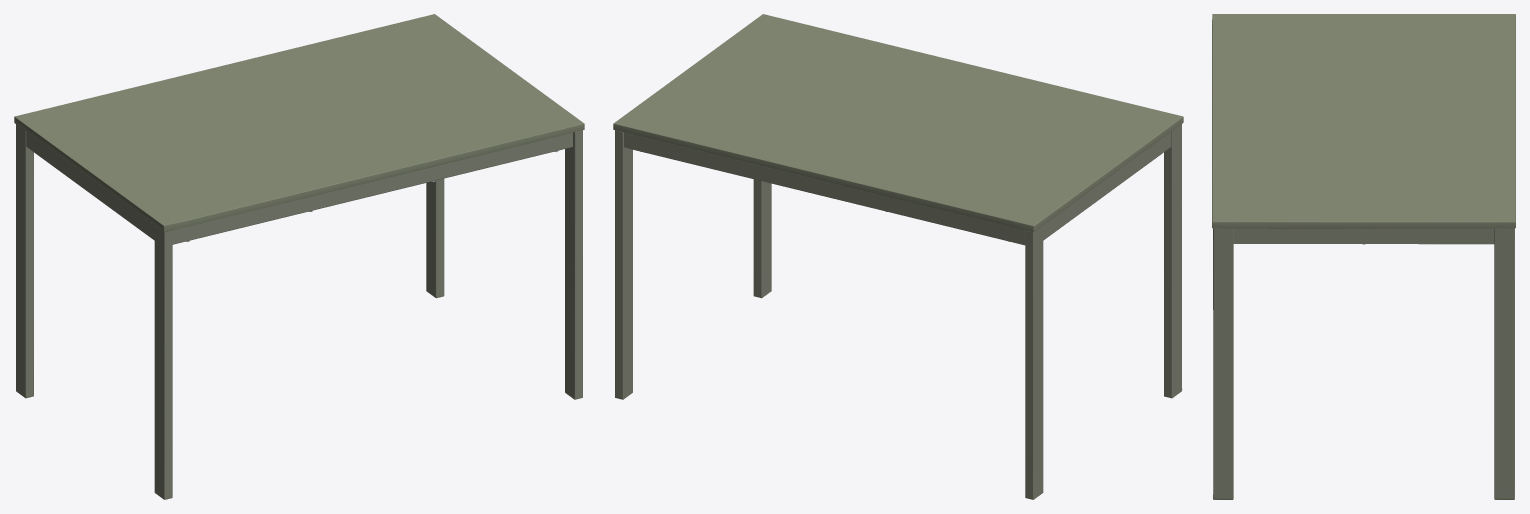
The model's file is VIHALS.glb.
3 views of the same model, side by side, from view 1: azimuth 30°, elevation 25°; view 2: azimuth 150°, elevation 25°; view 3: azimuth 270°, elevation 25° (orthographic).
Parts seen in each view (by area): view 1: VIHALS; view 2: VIHALS; view 3: VIHALS.
Boxes of the visible parts, x1,y1,x2,y2 form: VIHALS: (14, 14, 584, 499); VIHALS: (613, 14, 1183, 499); VIHALS: (1212, 14, 1515, 499).
Size of the model in its own units: 1.2 by 0.749 by 0.7401.
1 material, 1 textured.
